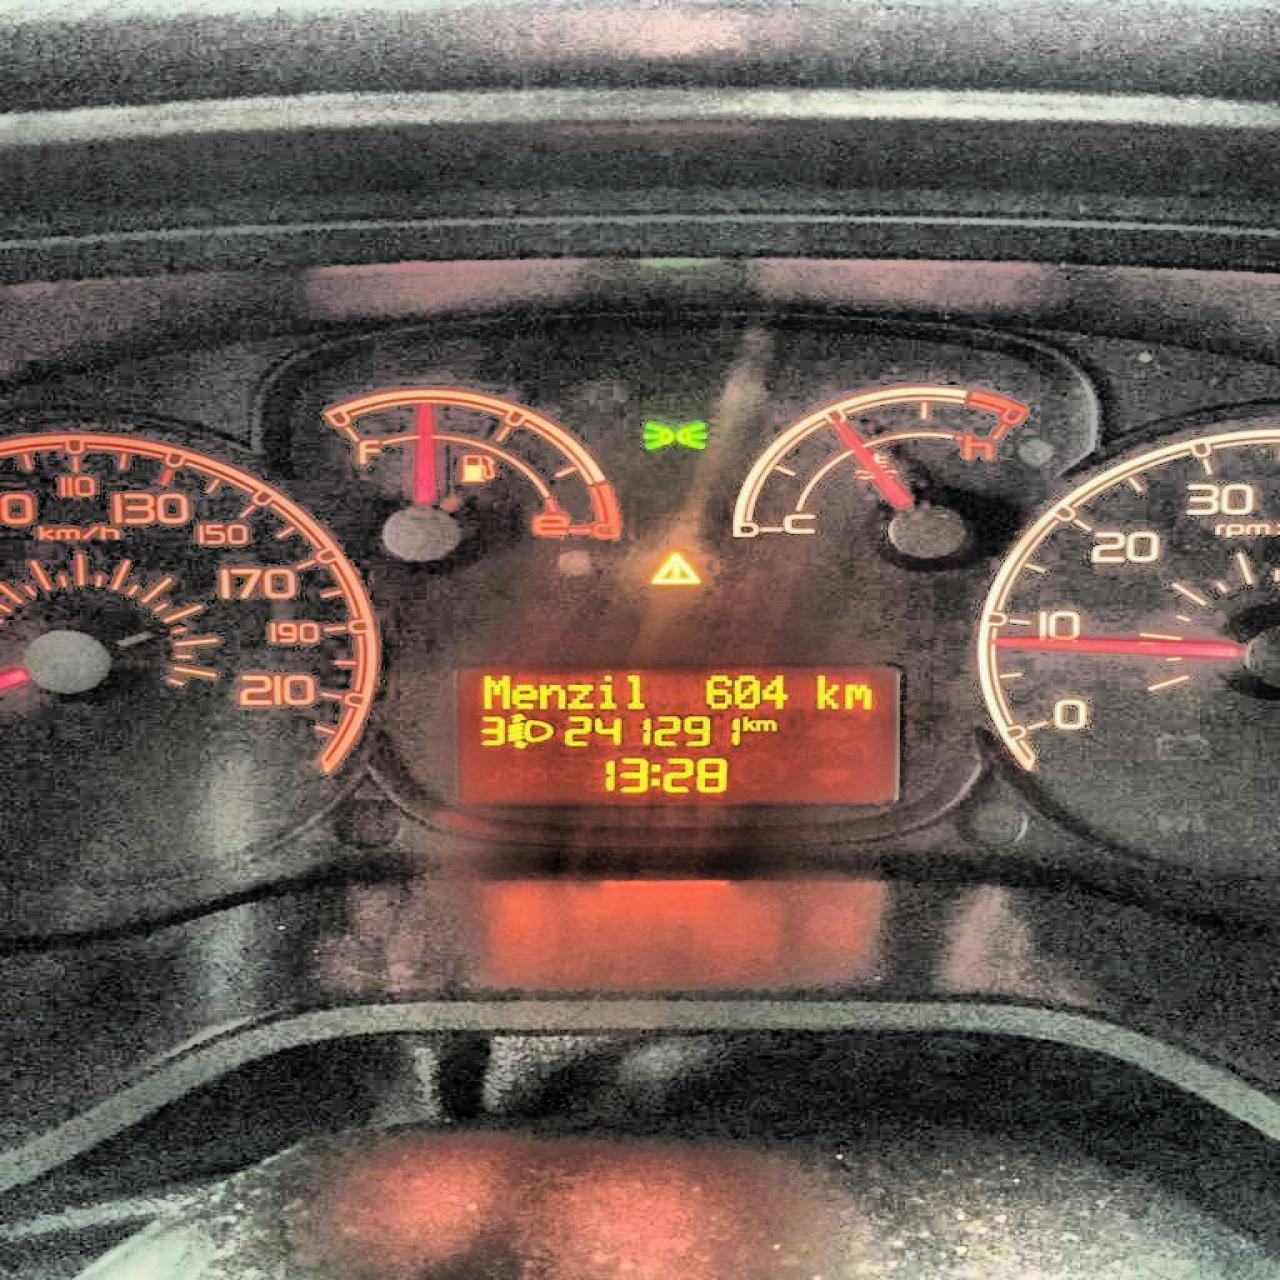0: (731, 670, 761, 710)
1: (598, 757, 614, 792), (635, 715, 651, 745), (724, 715, 738, 745)
2: (660, 755, 693, 792), (561, 713, 591, 747), (652, 712, 679, 748)
3: (617, 755, 647, 794), (477, 714, 505, 748)
4: (758, 670, 790, 710), (591, 714, 621, 747)
6: (701, 670, 731, 710)
8: (695, 754, 727, 794)
9: (680, 713, 712, 747)
X: (478, 673, 510, 710), (812, 670, 840, 710), (592, 670, 618, 710), (842, 681, 873, 710), (565, 680, 593, 710), (625, 670, 645, 710), (538, 681, 565, 710), (509, 682, 537, 708), (647, 762, 661, 787), (755, 717, 777, 731), (742, 713, 755, 731)
odometer: (449, 658, 904, 810)
